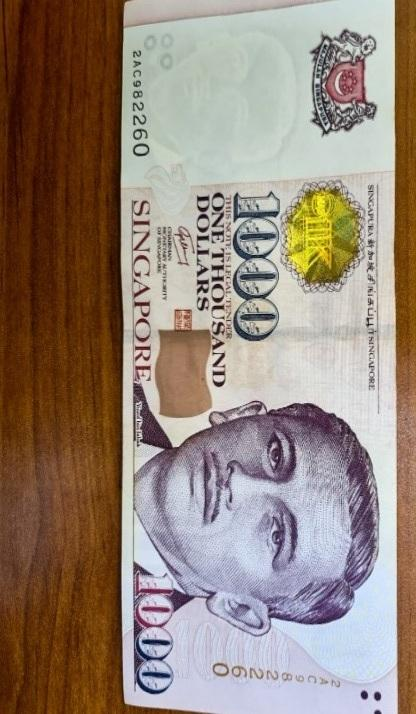1000SingaporeDollar: (124, 0, 395, 714)
